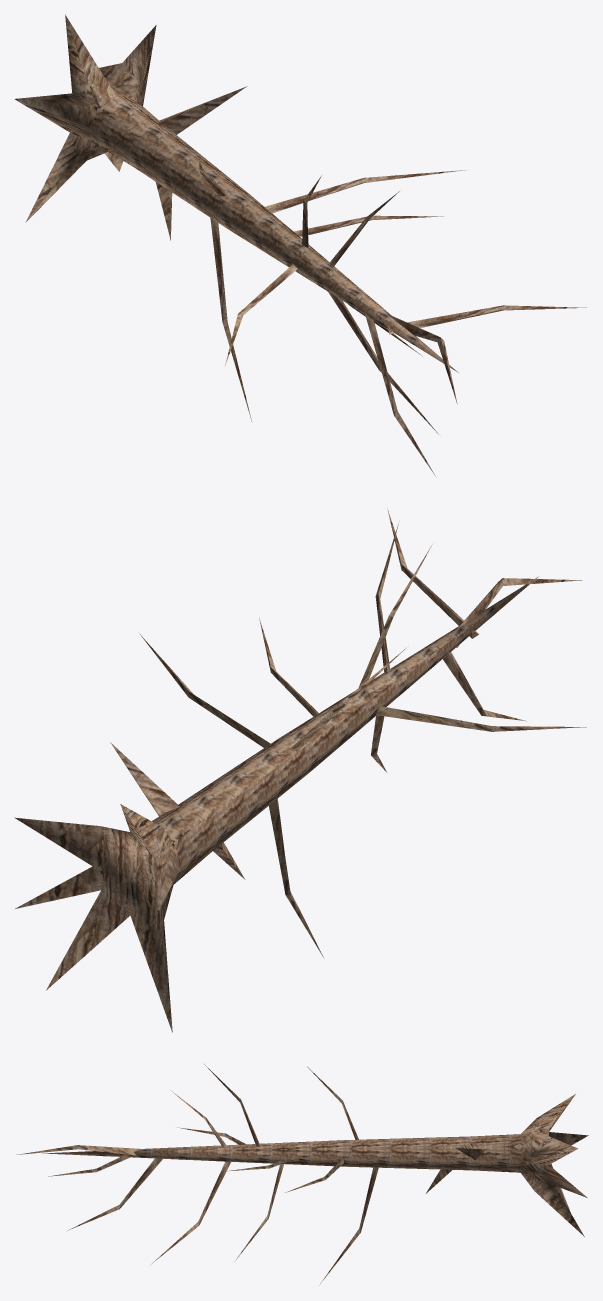
The model's file is Arbolcaido.fbx.
3 renders of one model, top to bottom at view 1: azimuth 30°, elevation 25°; view 2: azimuth 150°, elevation 25°; view 3: azimuth 270°, elevation 25°, orthographic. The views are drawn at different scales.
Parts seen in each view (by area): view 1: Tree_1.001; view 2: Tree_1.001; view 3: Tree_1.001.
Boxes of the visible parts, box(x1,y1,x2,y2) form: Tree_1.001: box(14, 14, 586, 477); Tree_1.001: box(14, 508, 586, 1032); Tree_1.001: box(16, 1064, 588, 1285).
Bounding box in the file's own units: 634 × 591 × 1401.
